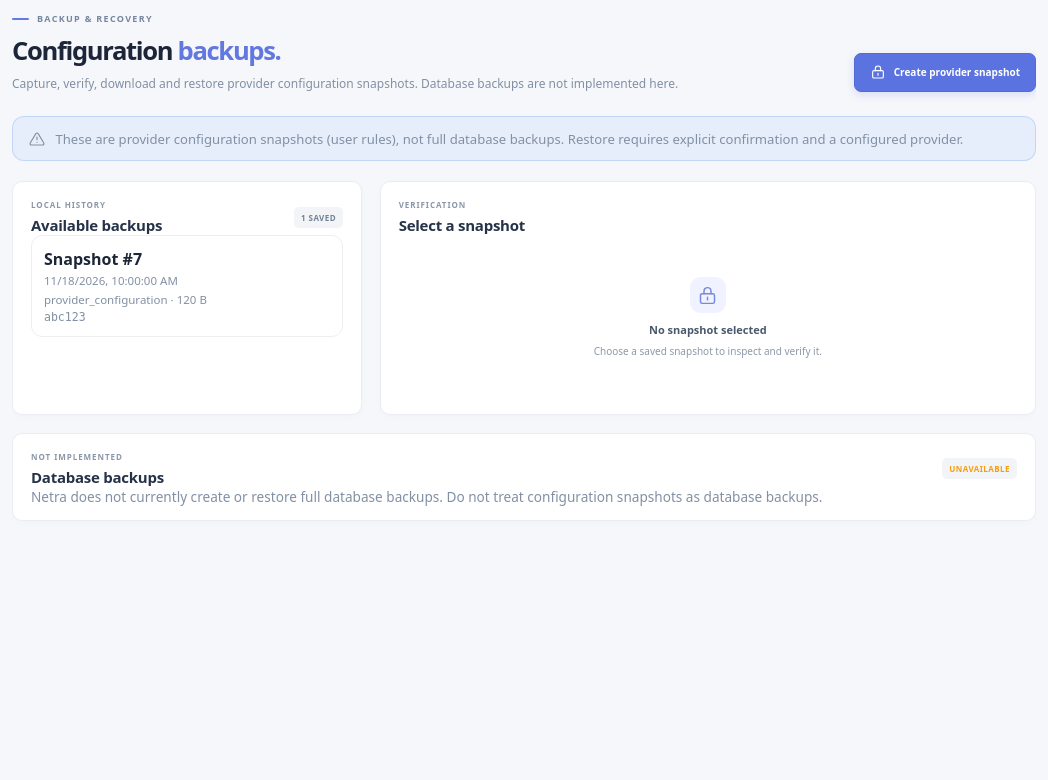
Test: Backup and recovery › captures provider configuration and requires checkbox confirmation to delete
The width and height of the screenshot is (1048, 780).
Later steps or results of the test are not shown.
Click the button "Snapshot #7" at (88, 259), box [31, 235, 343, 337]
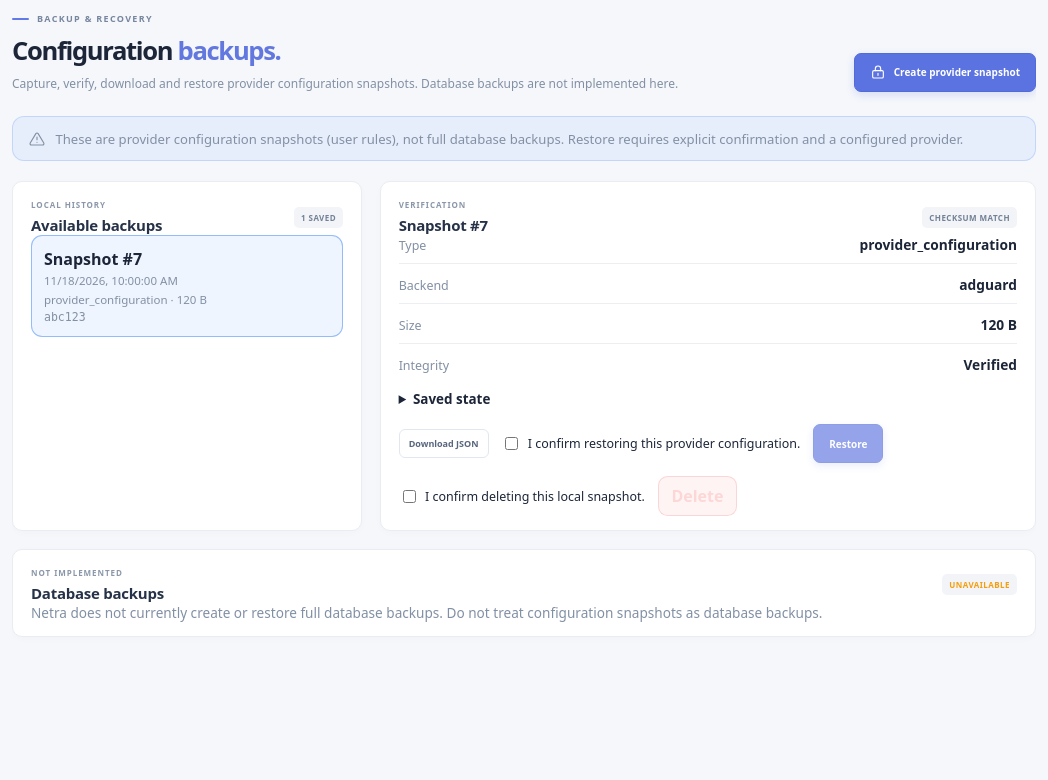
Now the text "CHECKSUM MATCH" is shown, box [922, 207, 1017, 228]
